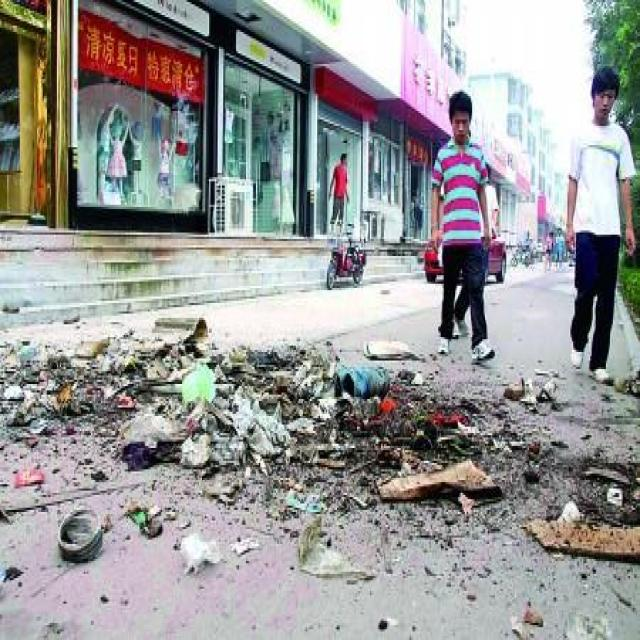garbage: (47, 330, 313, 476), (377, 446, 499, 518), (328, 352, 394, 403)
